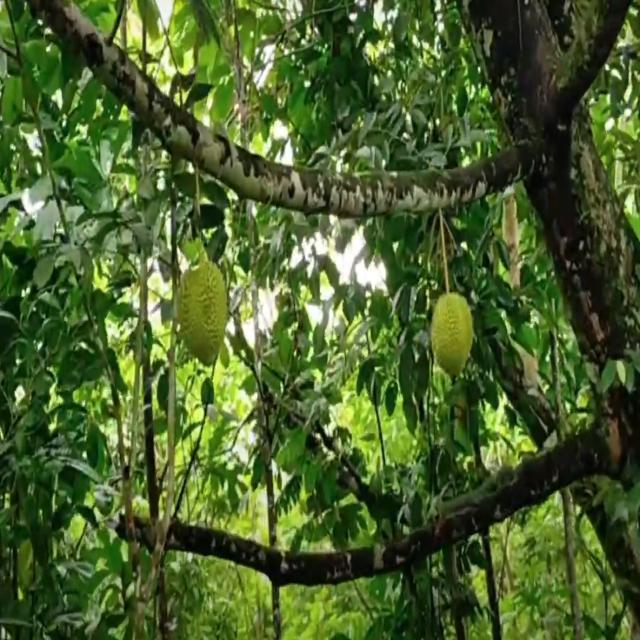immature: (176, 259, 232, 371), (430, 292, 475, 382)
